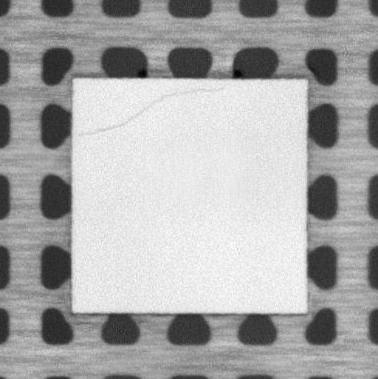DIE_CRACK: (84, 84, 226, 138)
